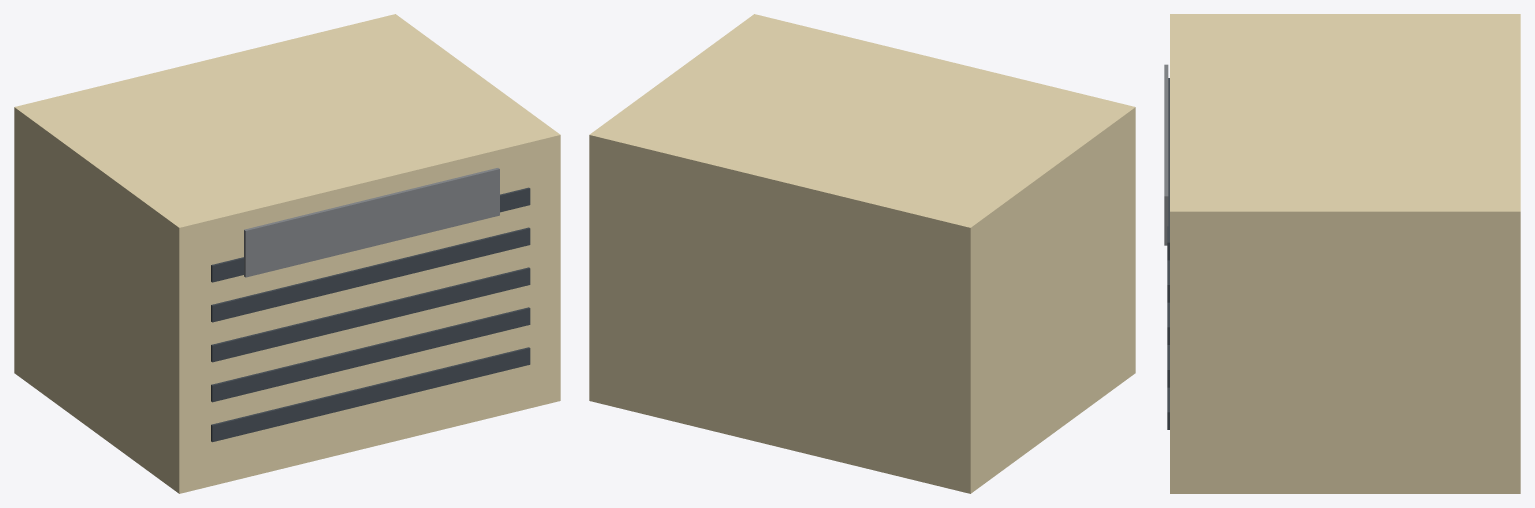
Rendered from GH_AirConditioner_01.glb.
3 views of the same model, side by side, from view 1: azimuth 30°, elevation 25°; view 2: azimuth 150°, elevation 25°; view 3: azimuth 270°, elevation 25° (orthographic). The views are drawn at different scales.
Visible parts, largest first — view 1: GH_AirConditioner_01; view 2: GH_AirConditioner_01; view 3: GH_AirConditioner_01.
Boxes of the visible parts, x1,y1,x2,y2 form: GH_AirConditioner_01: (14, 14, 560, 493); GH_AirConditioner_01: (589, 14, 1135, 493); GH_AirConditioner_01: (1164, 14, 1520, 493).
Size of the model in its own units: 0.6 by 0.4 by 0.4575.
Materials: 1 (1 with a texture image).
